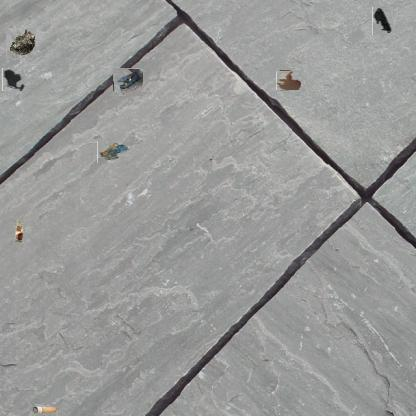dirty: (6, 29, 36, 58), (114, 68, 144, 96), (97, 141, 130, 163), (372, 7, 393, 35), (13, 218, 25, 244), (32, 404, 58, 416)
liquid: (2, 68, 25, 91), (276, 70, 301, 90)
